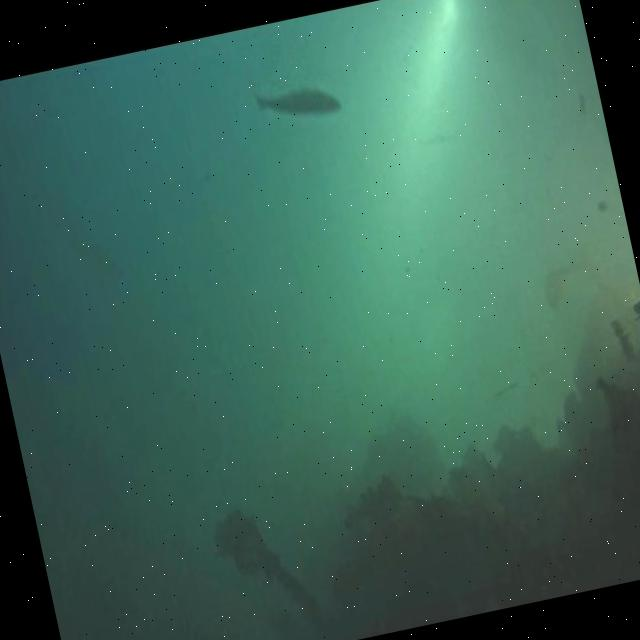fish: (255, 81, 342, 129)
